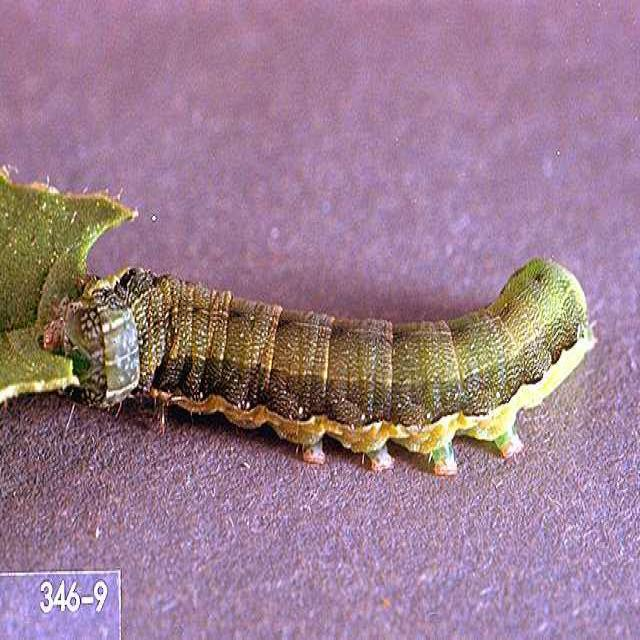BeetArmyWorm-Larva-: (52, 244, 601, 484)
